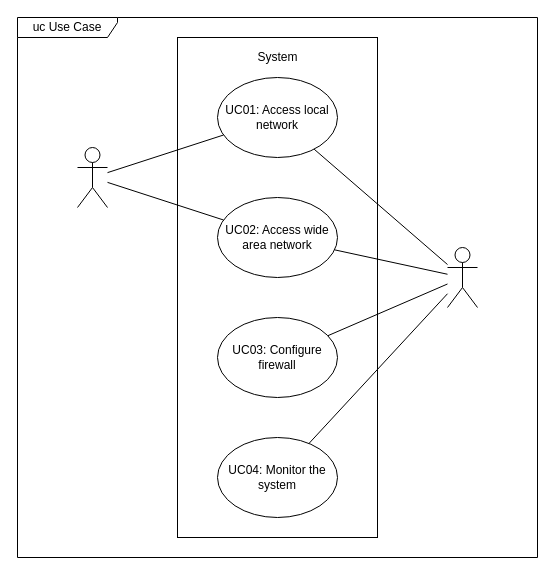
Some shapes in this 555 by 575 pixel diagram are drawn without their labels. The centre of each missing label's shape, as x and y in pixels:
"Administrator" goes at point (462, 277).
"User" goes at point (92, 177).
